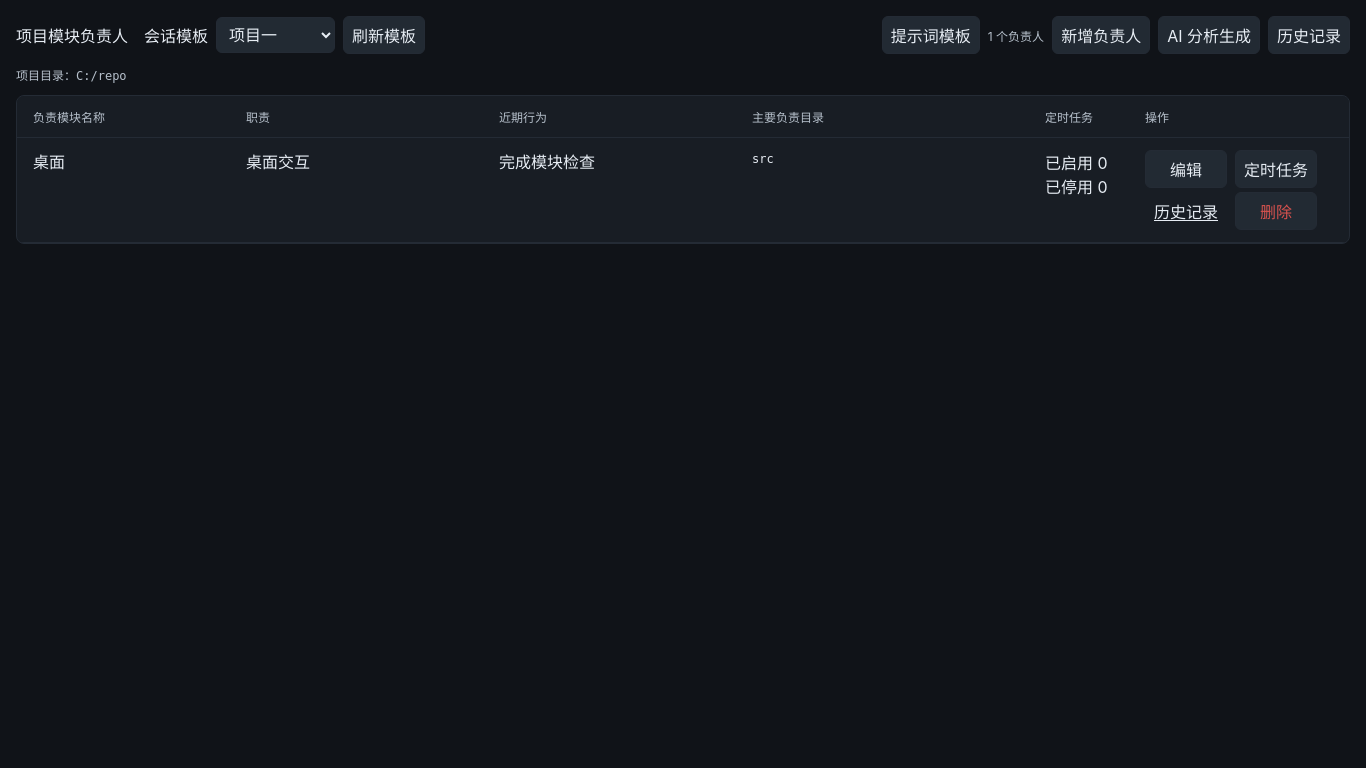
Test: module owner workspace › keeps generation running after closing and prohibits restoring history
Expected: the button with aria-label "编辑 桌面" is shown, x1=1145 y1=150 x2=1227 y2=188
Step 1. Click the button "AI 分析生成" → (1209, 35), box x1=1158 y1=16 x2=1260 y2=54
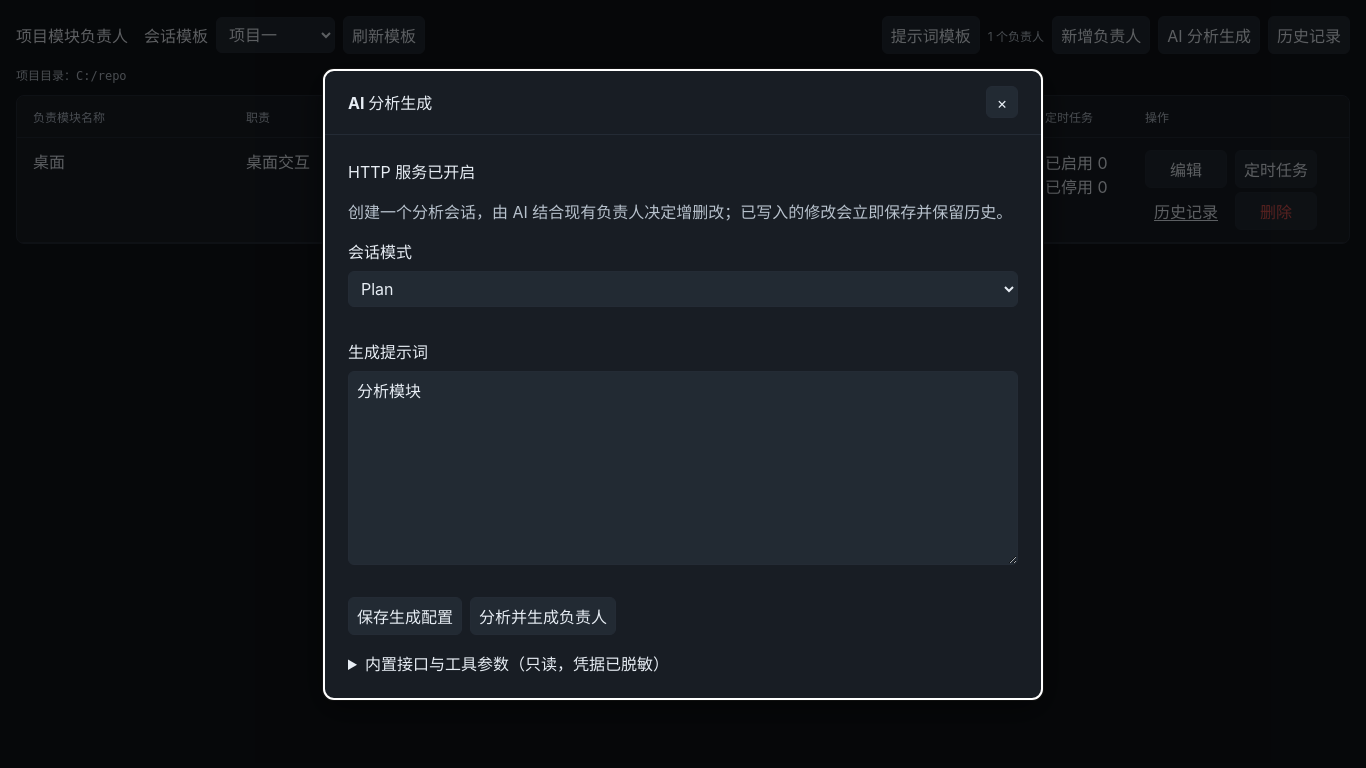
Step 2. Click the button "分析并生成负责人" → (543, 616), box x1=470 y1=596 x2=616 y2=634
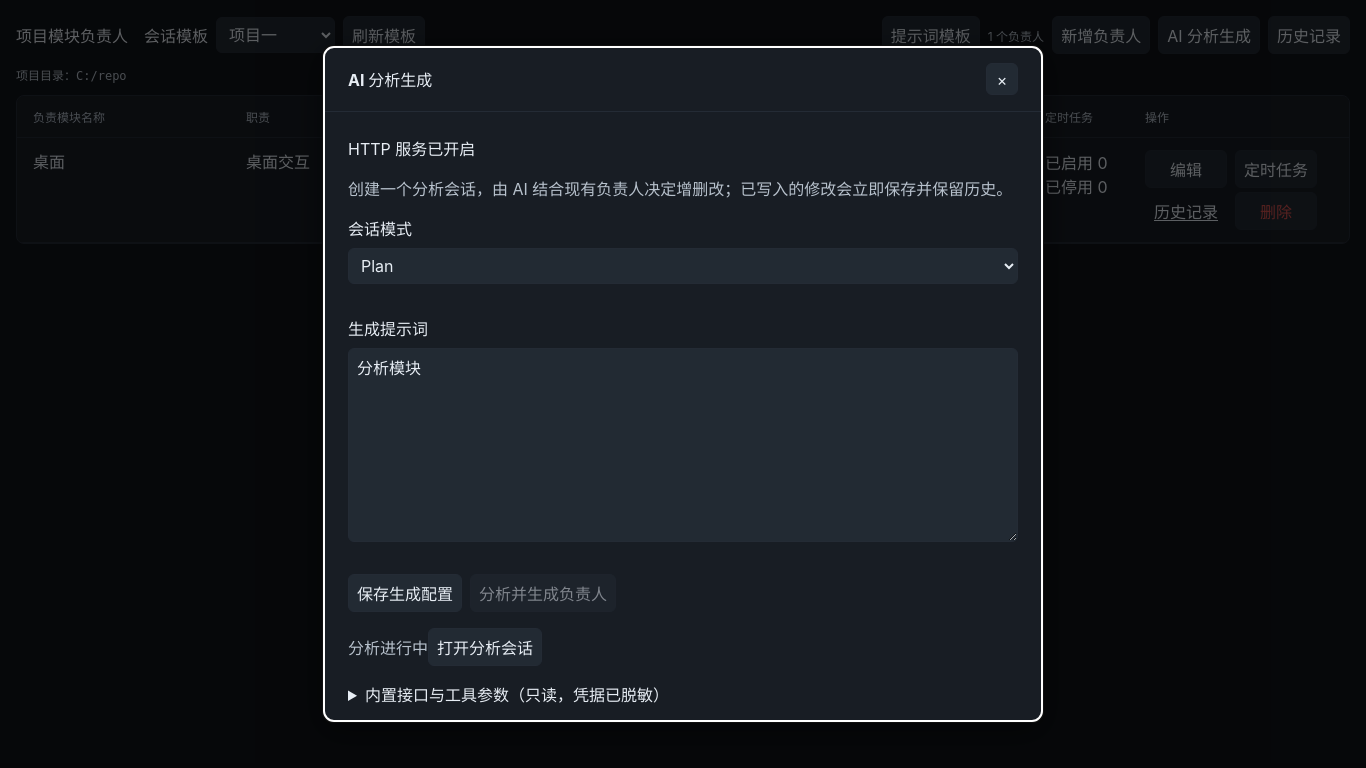
Expected: the button named "关闭弹窗" is enabled
Expected: the button "打开分析会话" is shown, x1=428 y1=628 x2=542 y2=666
Step 3. Click the button named "关闭弹窗" → (1002, 79), box x1=986 y1=63 x2=1018 y2=95
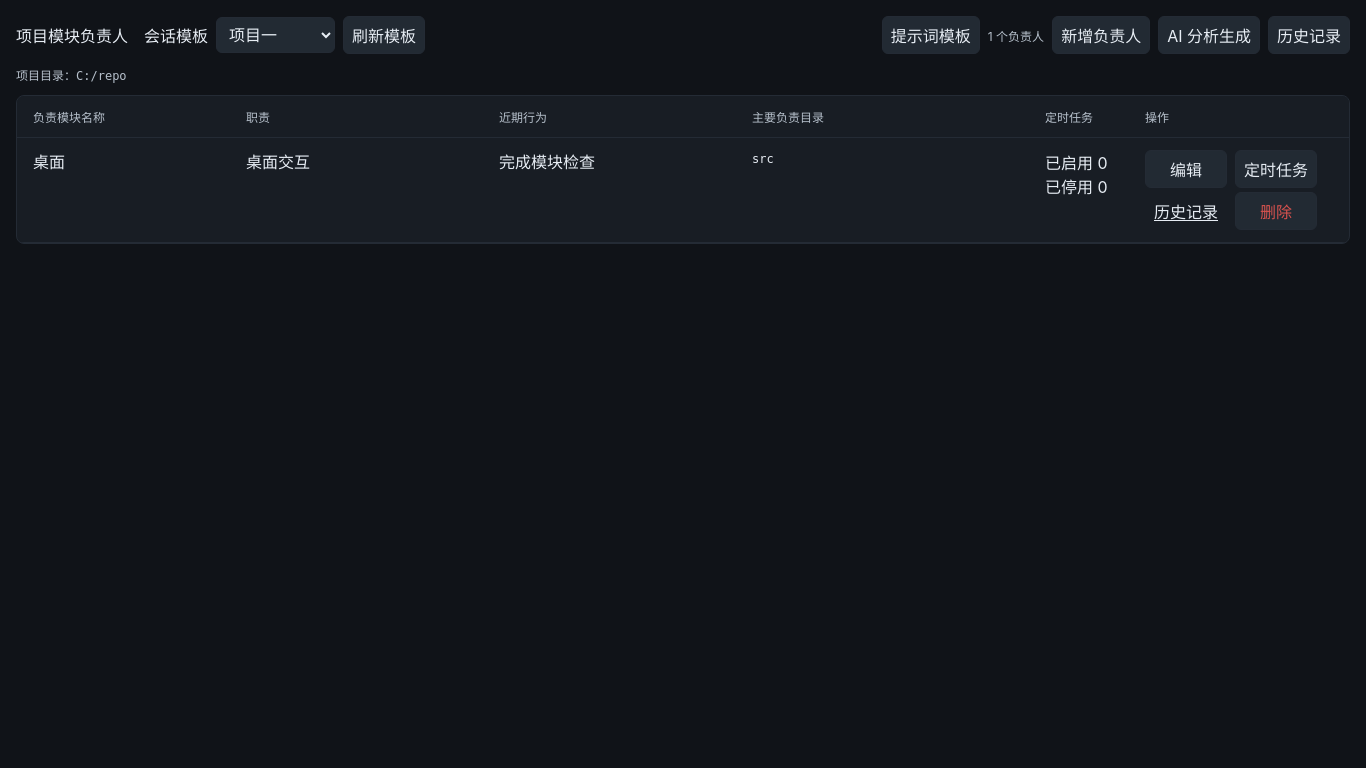
Step 4. Click the button "AI 分析生成" → (1209, 35), box x1=1158 y1=16 x2=1260 y2=54
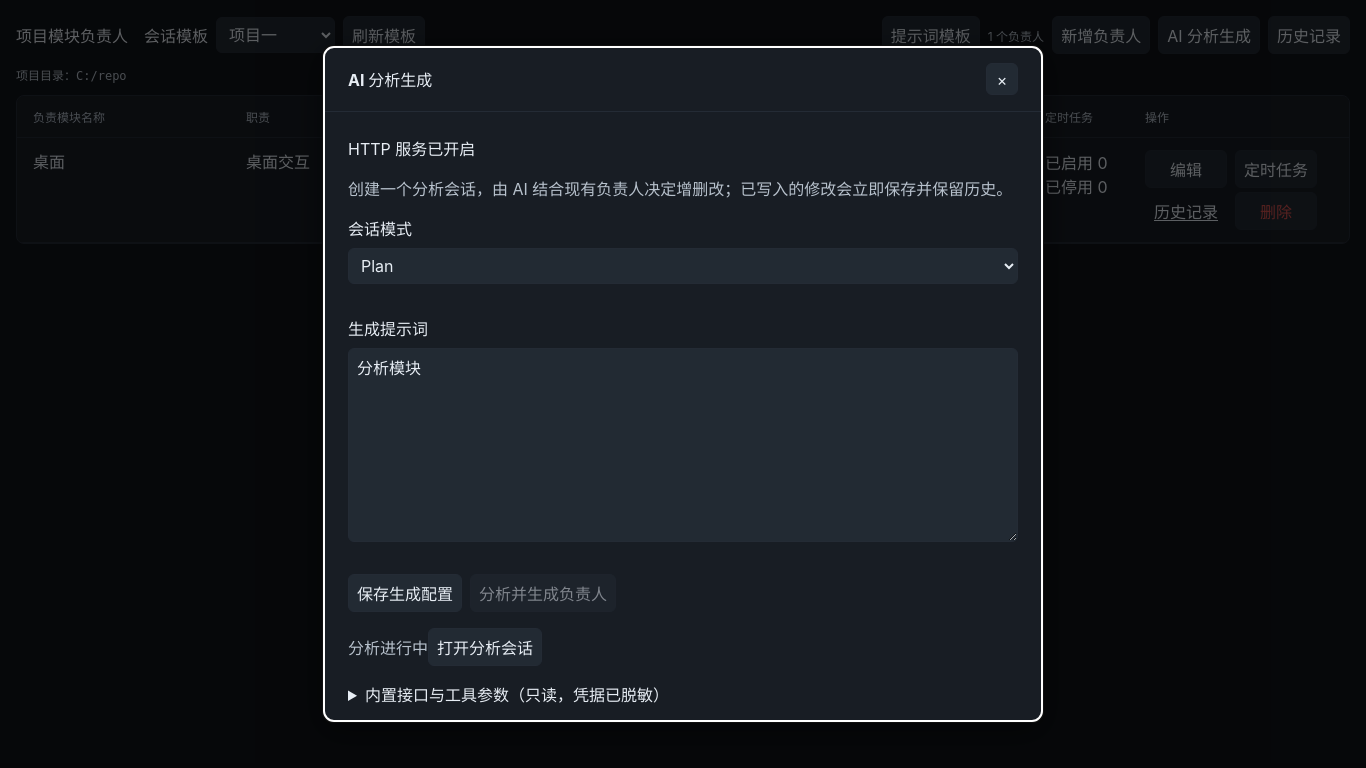
Expected: the message shows "分析进行中", x1=348 y1=638 x2=428 y2=658
Step 5. Click the button named "关闭弹窗" → (1002, 79), box x1=986 y1=63 x2=1018 y2=95
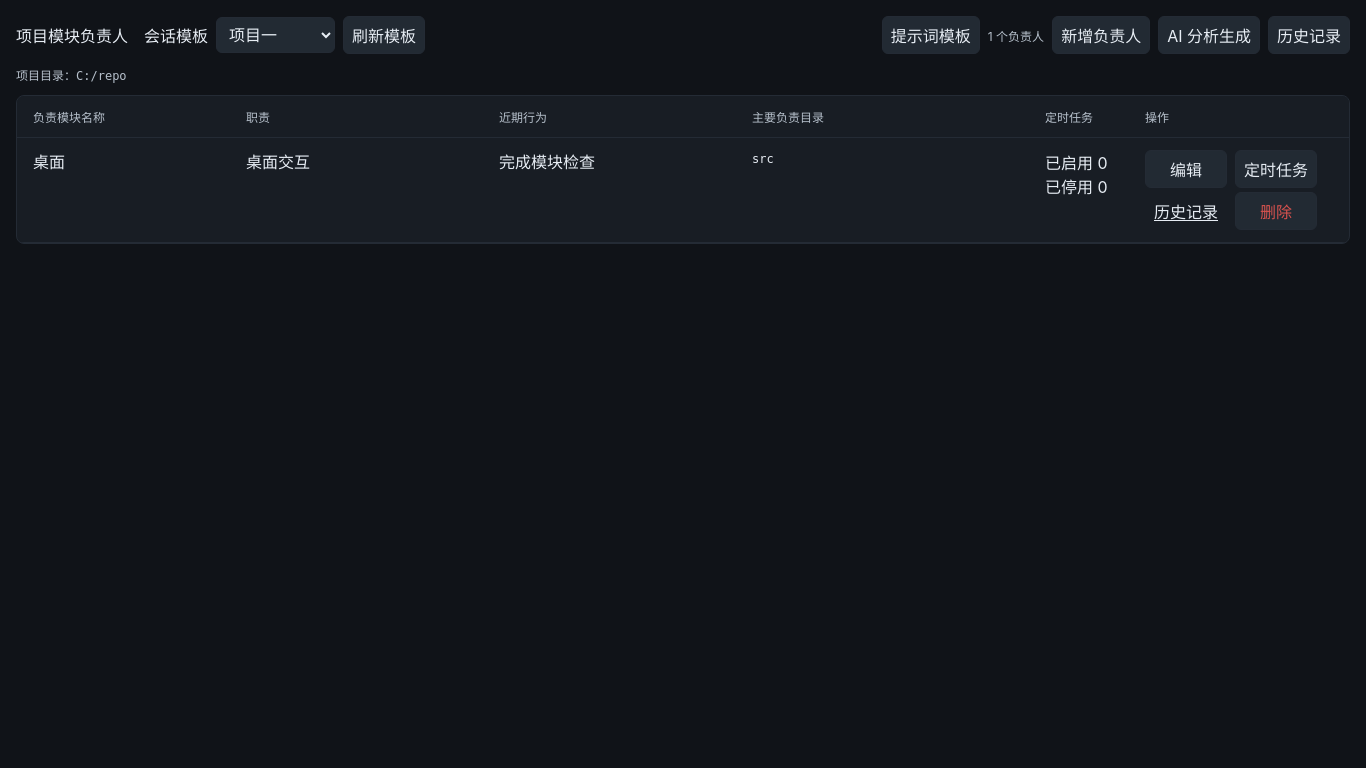
Step 6. Click the button "历史记录" in the row of "个负责人" → (1309, 35), box x1=1268 y1=16 x2=1350 y2=54
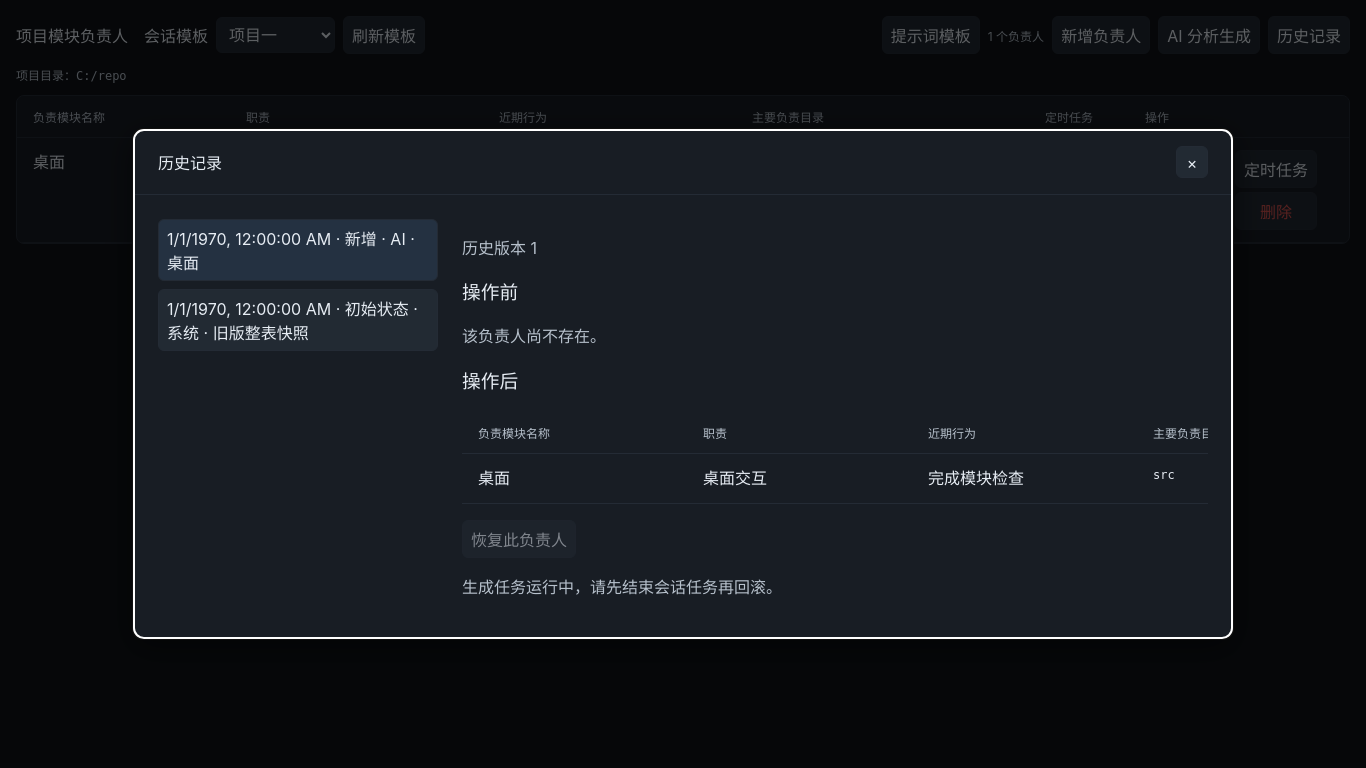
Expected: the button "恢复此负责人" is disabled, x1=462 y1=520 x2=576 y2=558
